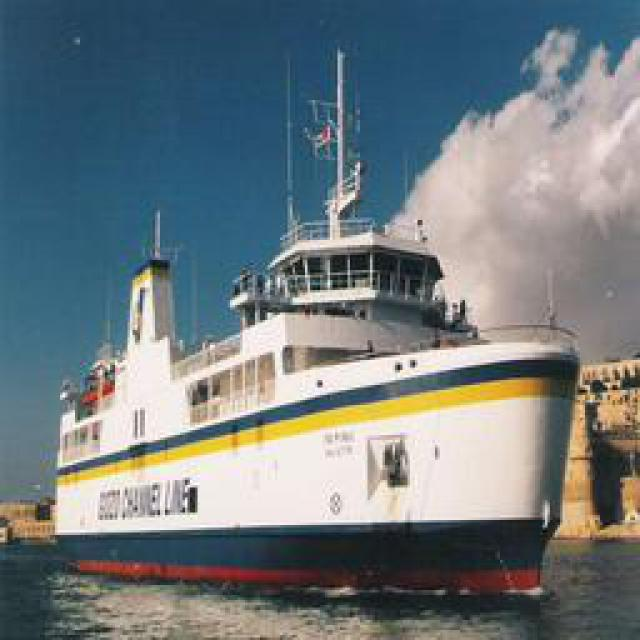Ship: (46, 97, 579, 590)
